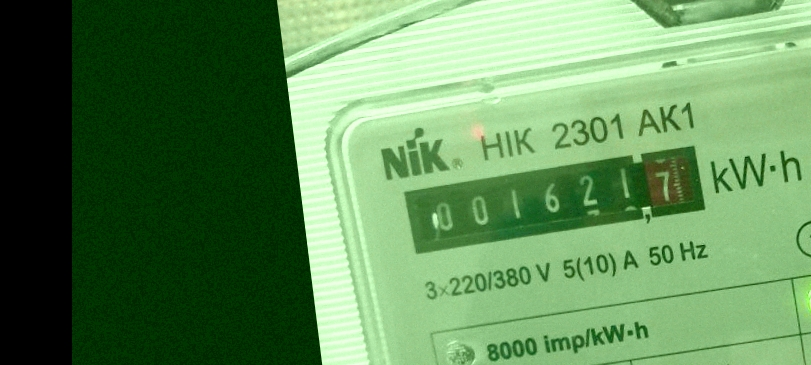0: (467, 190, 494, 230), (433, 197, 457, 233)
1: (507, 184, 525, 222), (616, 163, 634, 201)
2: (577, 171, 602, 209)
6: (540, 180, 563, 216)
7: (652, 167, 676, 205)
screen: (398, 141, 714, 260)
